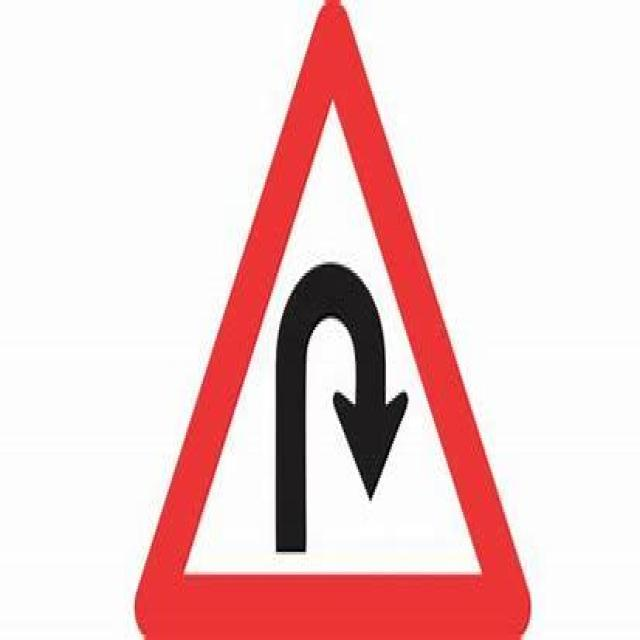RIGHT_HAIR_PIN_BEND: (130, 0, 532, 640)
